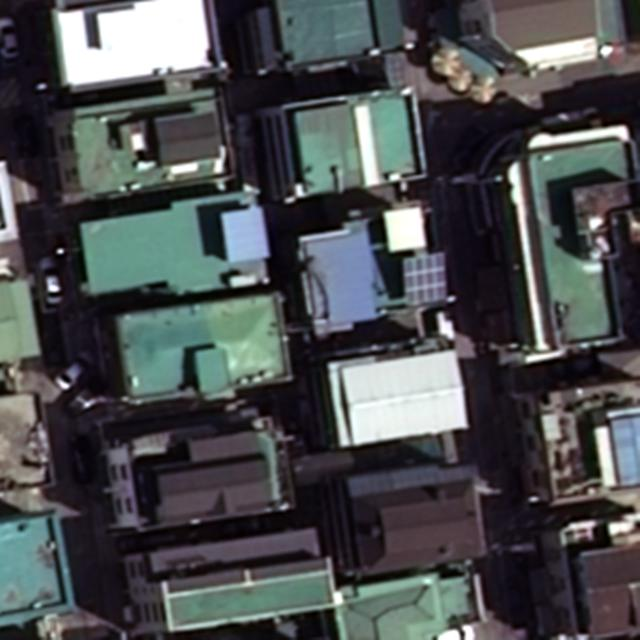panel: (401, 251, 443, 304)
